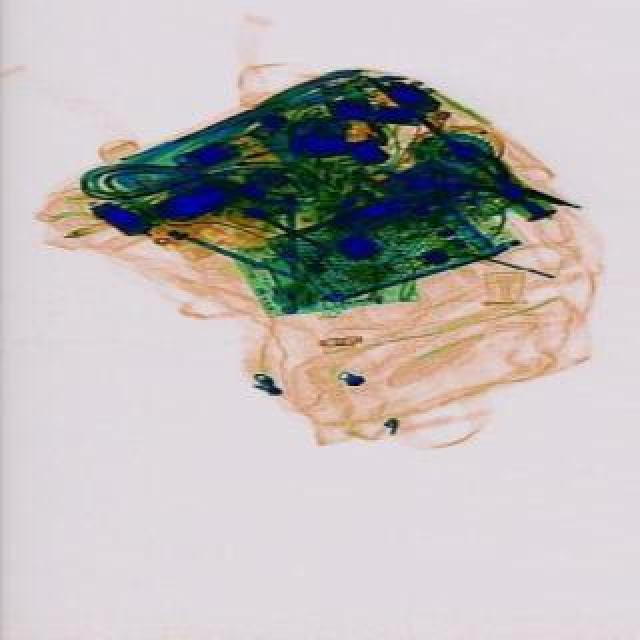wrench: (376, 120, 586, 244)
